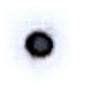cancer: (9, 14, 72, 78)
